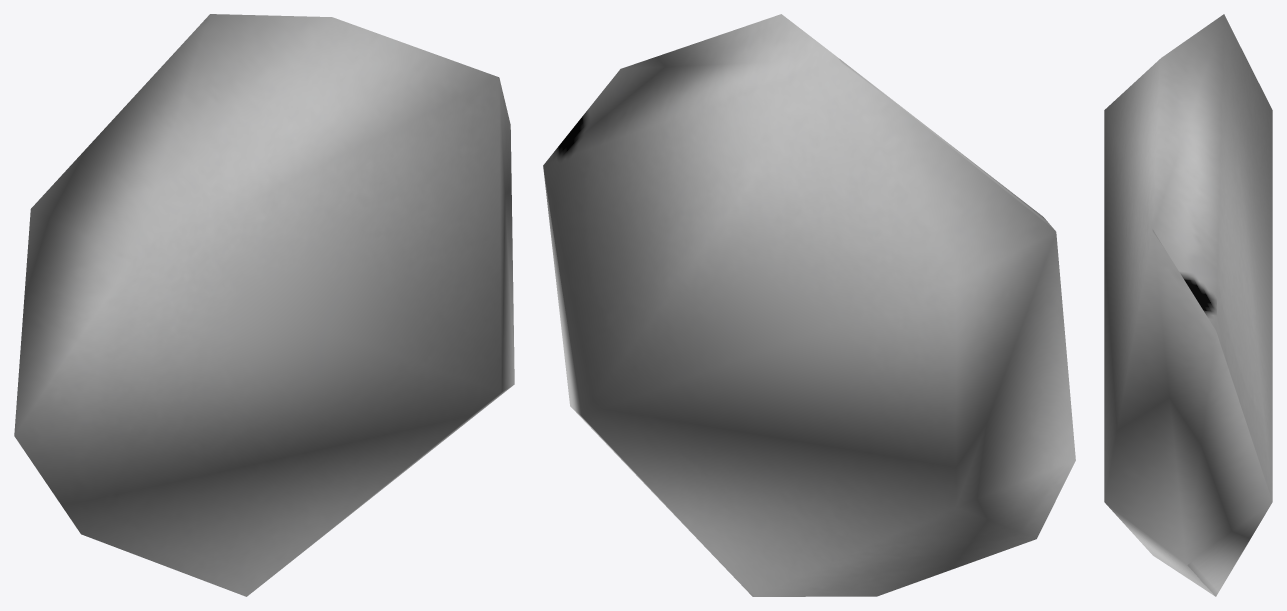
File: RightHand_C2.fbx
The picture shows the model from 3 angles, left to right: view 1: azimuth 30°, elevation 25°; view 2: azimuth 150°, elevation 25°; view 3: azimuth 270°, elevation 25°; orthographic projection. The views are drawn at different scales.
Parts seen in each view (by area): view 1: Civ_Telefono_RightHand_C2; view 2: Civ_Telefono_RightHand_C2; view 3: Civ_Telefono_RightHand_C2.
Part boxes in pixels (left/top/right/bottom): Civ_Telefono_RightHand_C2: left=14, top=14, right=514, bottom=596; Civ_Telefono_RightHand_C2: left=543, top=14, right=1075, bottom=596; Civ_Telefono_RightHand_C2: left=1104, top=14, right=1272, bottom=596.
Size of the model in its own units: 0.0488 by 0.0507 by 0.0143.
